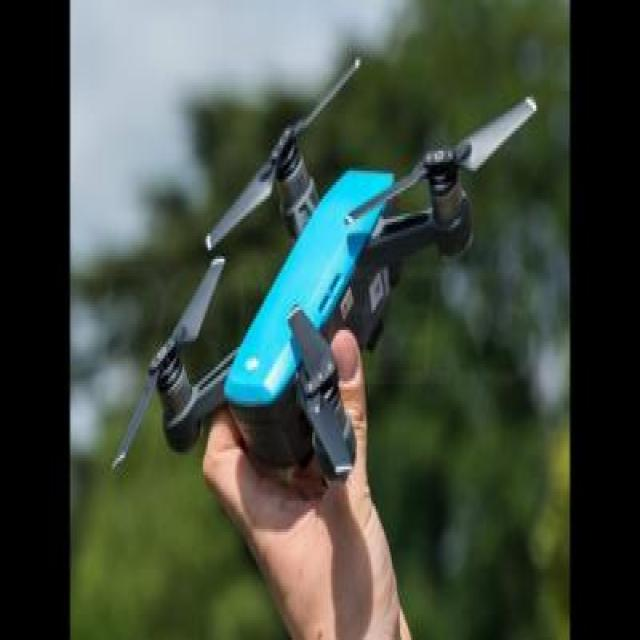drone: (107, 41, 542, 482)
